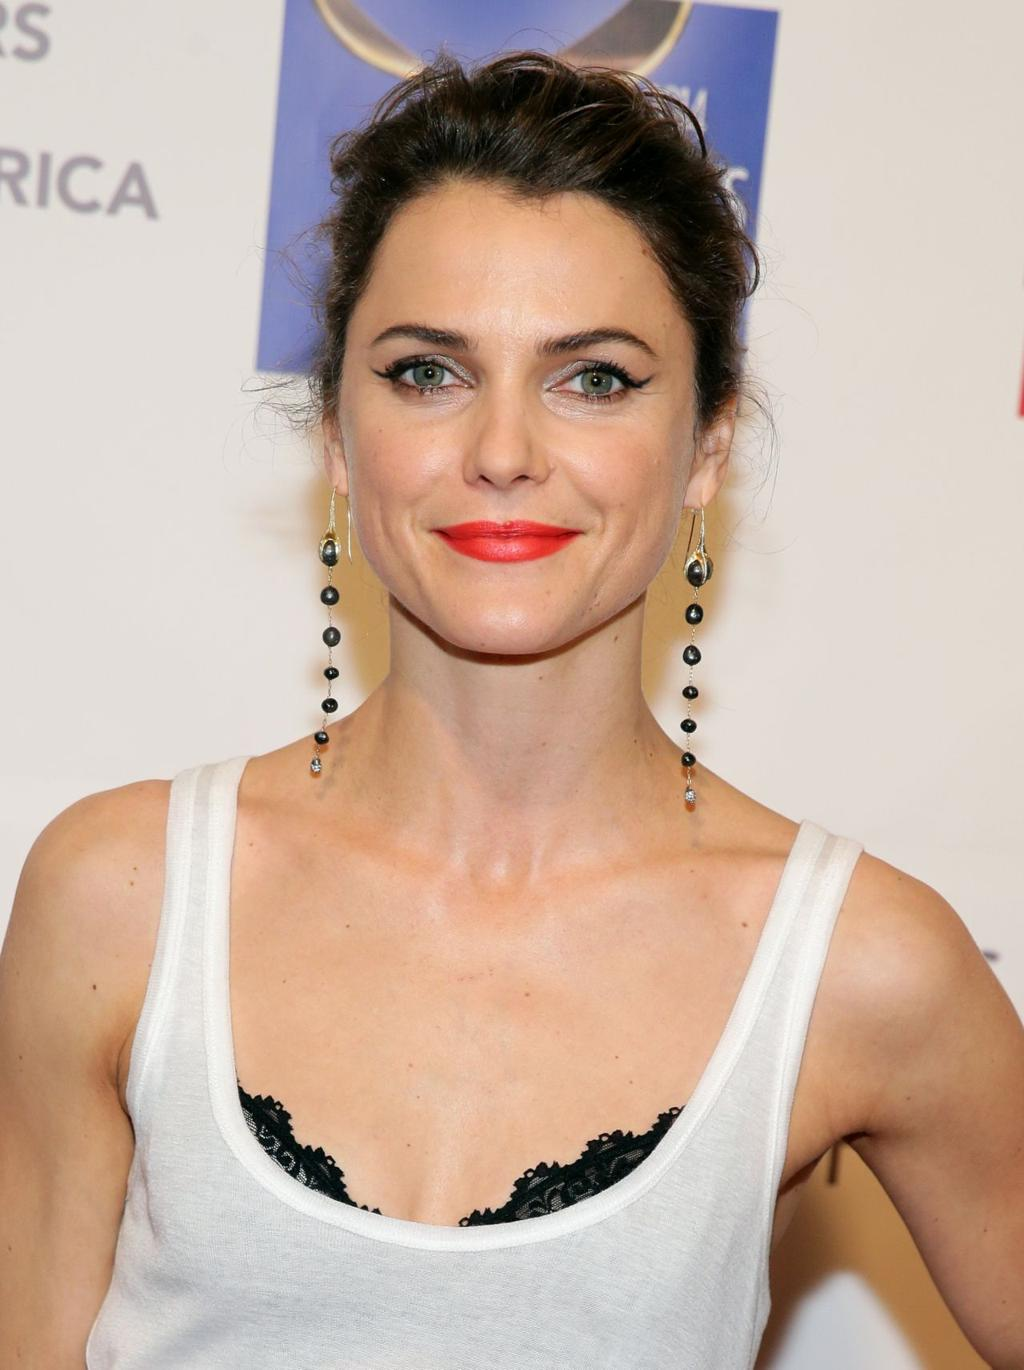face: (337, 179, 690, 652)
